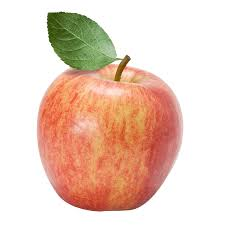apple: (34, 51, 185, 215)
